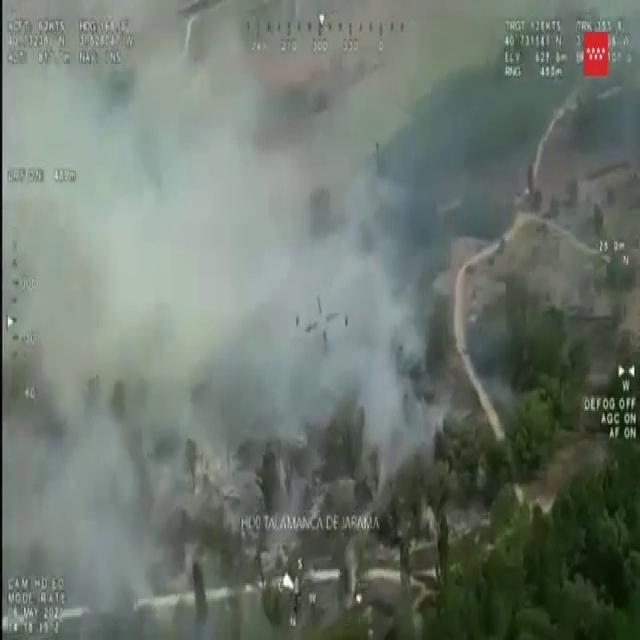Smoke: (18, 4, 492, 538)
